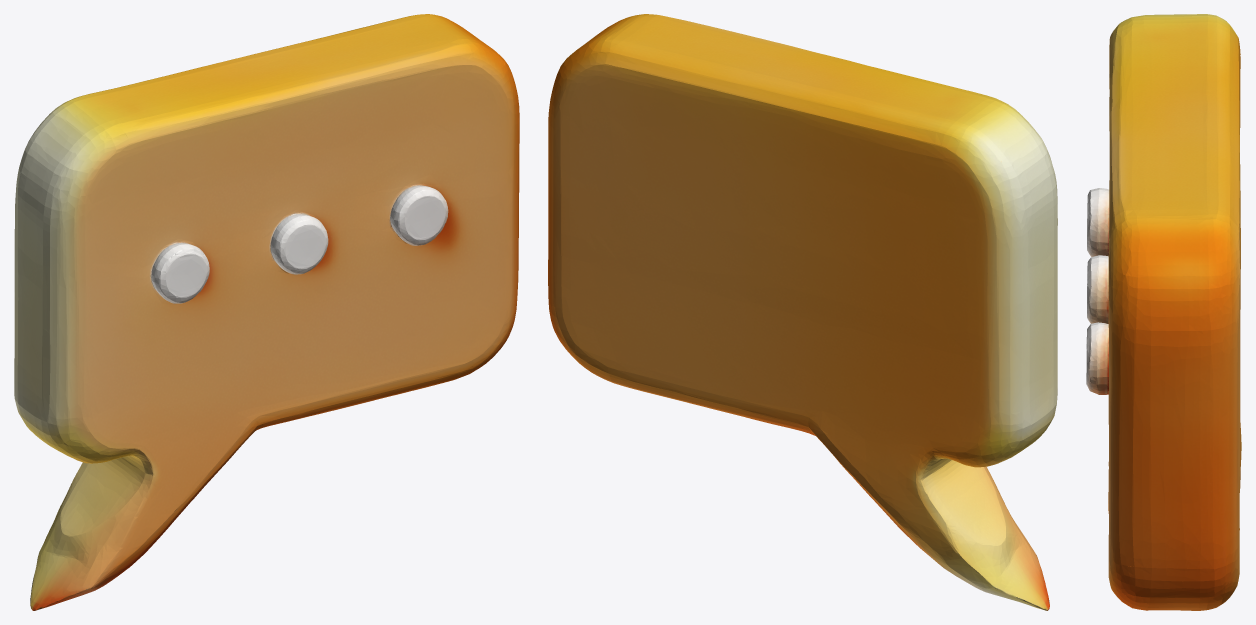
The model's file is Contact.glb.
3 renders of one model, left to right at view 1: azimuth 30°, elevation 25°; view 2: azimuth 150°, elevation 25°; view 3: azimuth 270°, elevation 25°, orthographic. The views are drawn at different scales.
Parts seen in each view (by area): view 1: world; view 2: world; view 3: world.
Boxes of the visible parts, box(x1,y1,x2,y2) form: world: box(14, 14, 519, 610); world: box(548, 14, 1057, 610); world: box(1086, 14, 1241, 610).
Size of the model in its own units: 1 by 0.9632 by 0.244.
Materials: 1 (1 with a texture image).
